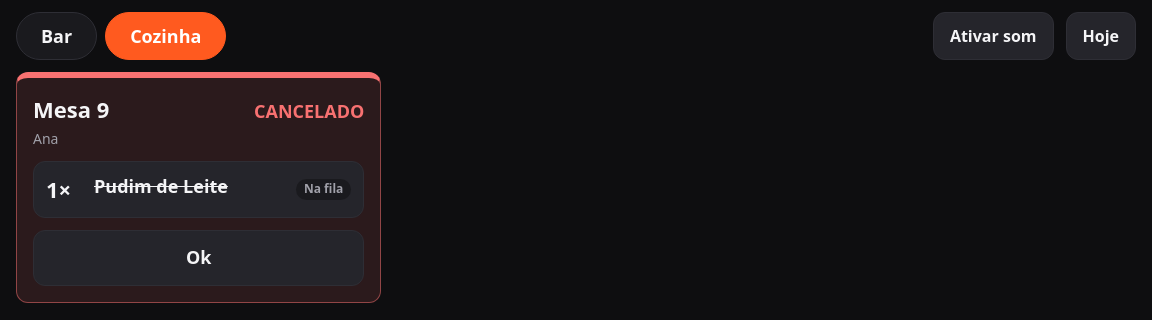
Scenario: TelaProducao › cancelado fica vermelho e Ok esconde
Expected: the text "Cancelado" is shown, [254, 99, 364, 125]
Expected: the button "1× Pudim de Leite Na fila" is disabled, [33, 161, 364, 218]
Click the button "Ok" at (199, 258), box [33, 230, 364, 286]
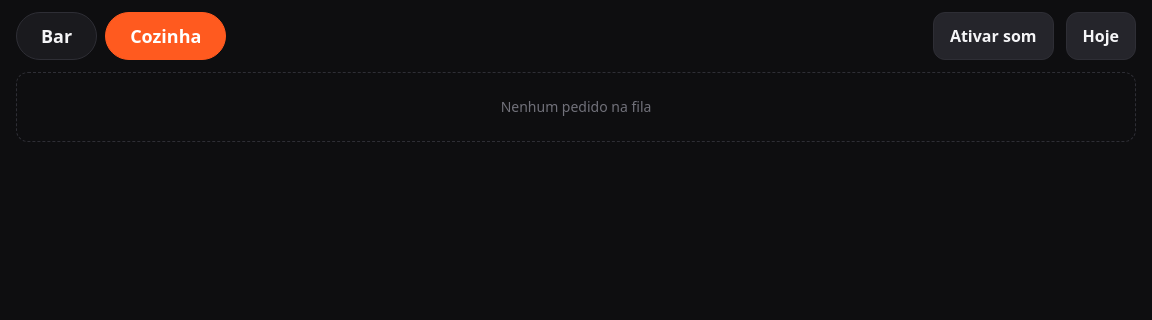
Expected: the text "Mesa 9" is gone
